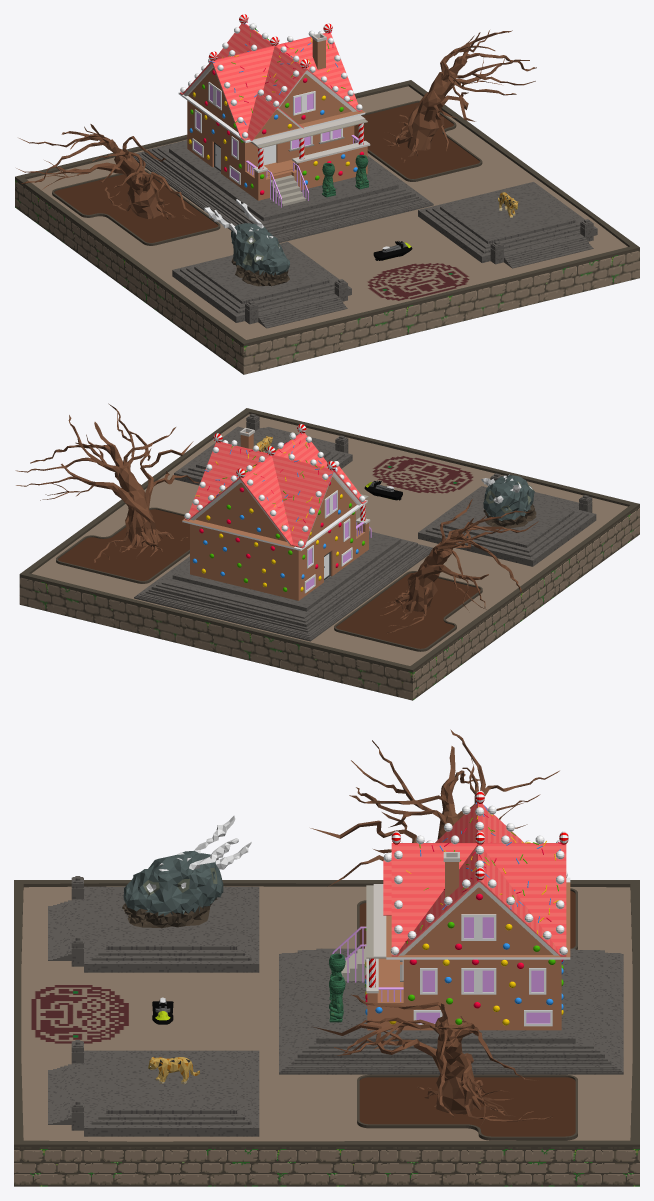
3 renders of one model, top to bottom at view 1: azimuth 30°, elevation 25°; view 2: azimuth 150°, elevation 25°; view 3: azimuth 270°, elevation 25°, orthographic. The views are drawn at different scales.
Parts seen in each view (by area): view 1: Cube.011, Cube.1203, OBJRANDOM_METEORITE; view 2: Cube.011, Cube.1203, OBJRANDOM_METEORITE, VEHICLES_WATERBIKE; view 3: Cube.011, Cube.1203, OBJRANDOM_METEORITE, ANIMAL_JAGUAR.
Part boxes in pixels (x1,y1,x2,y2): Cube.011: (15, 30, 639, 374); Cube.1203: (178, 14, 370, 207); OBJRANDOM_METEORITE: (204, 199, 289, 286); Cube.011: (15, 403, 639, 700); Cube.1203: (182, 424, 371, 600); OBJRANDOM_METEORITE: (481, 474, 536, 529); VEHICLES_WATERBIKE: (364, 480, 402, 500); Cube.011: (14, 729, 639, 1186); Cube.1203: (332, 790, 570, 1030); OBJRANDOM_METEORITE: (122, 815, 251, 928); ANIMAL_JAGUAR: (148, 1057, 199, 1084).
Bounding box in the file's own units: 5099 × 1669 × 4000.
Materials: 38 (6 with a texture image).
